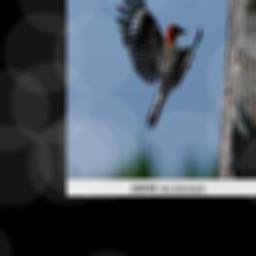Woodpecker: (115, 0, 201, 131)
